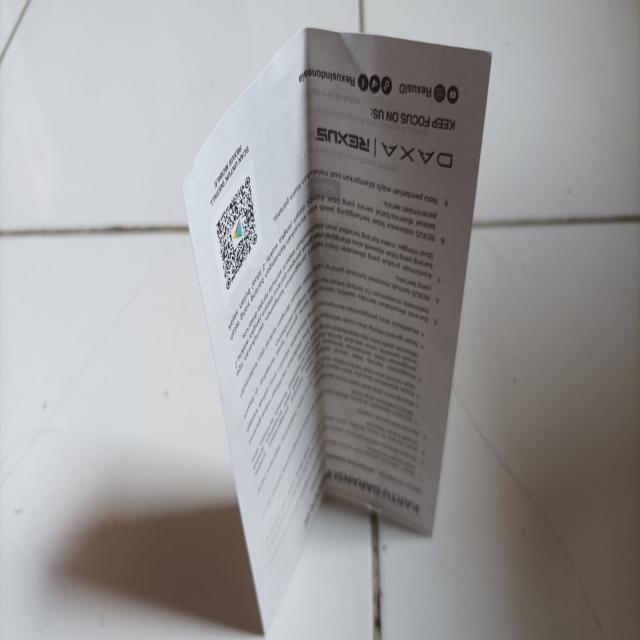Organik: (188, 33, 490, 637)
